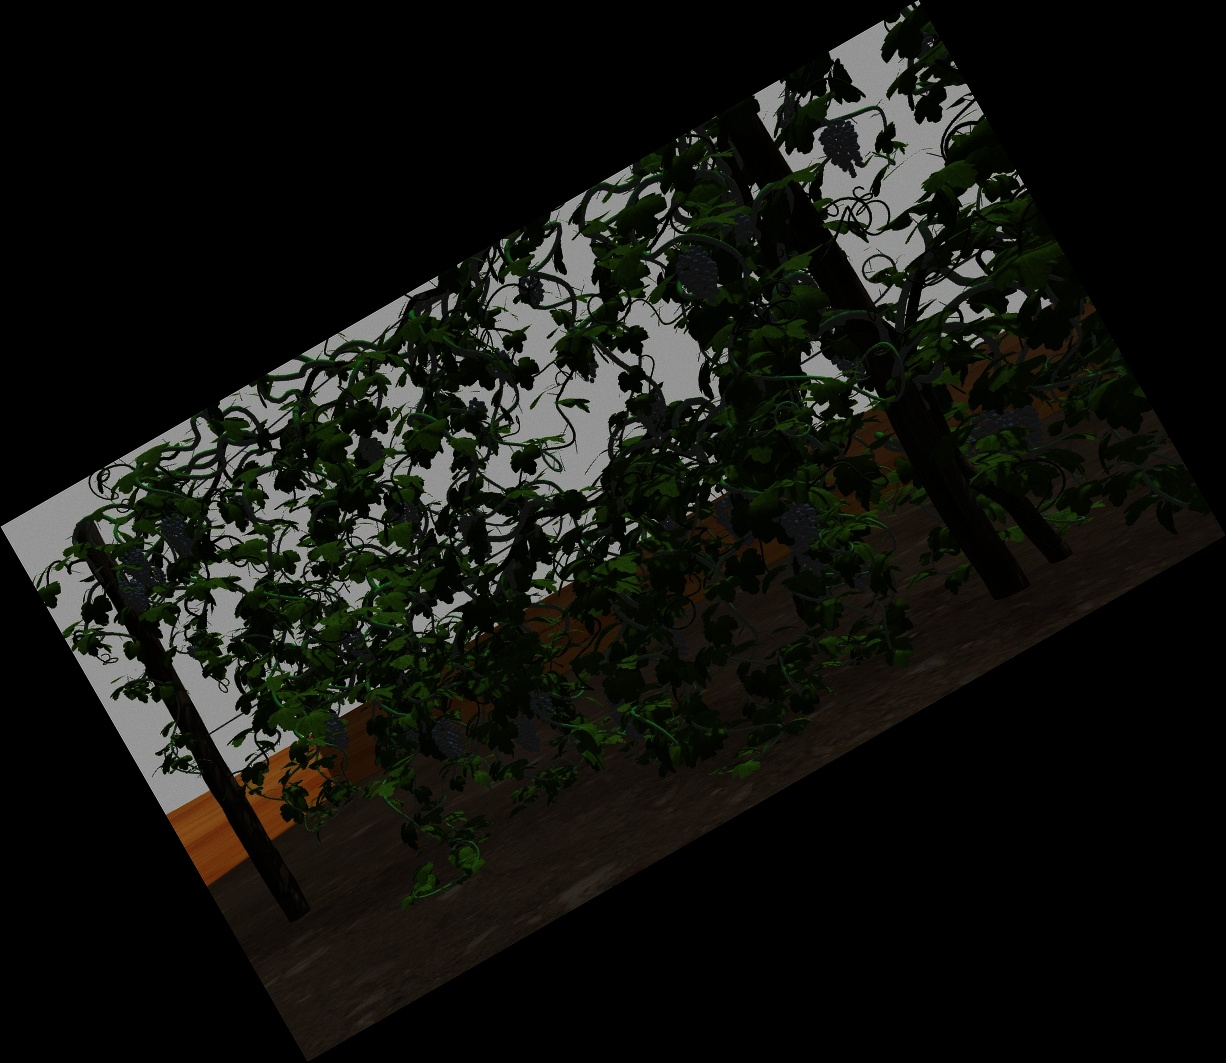grape: (682, 246, 720, 307), (826, 125, 862, 172), (787, 505, 822, 547), (1013, 407, 1044, 449), (164, 513, 190, 557), (436, 720, 462, 758), (125, 548, 149, 585), (514, 717, 536, 753), (324, 716, 347, 750), (123, 580, 146, 612), (361, 437, 383, 462), (534, 694, 554, 721)
